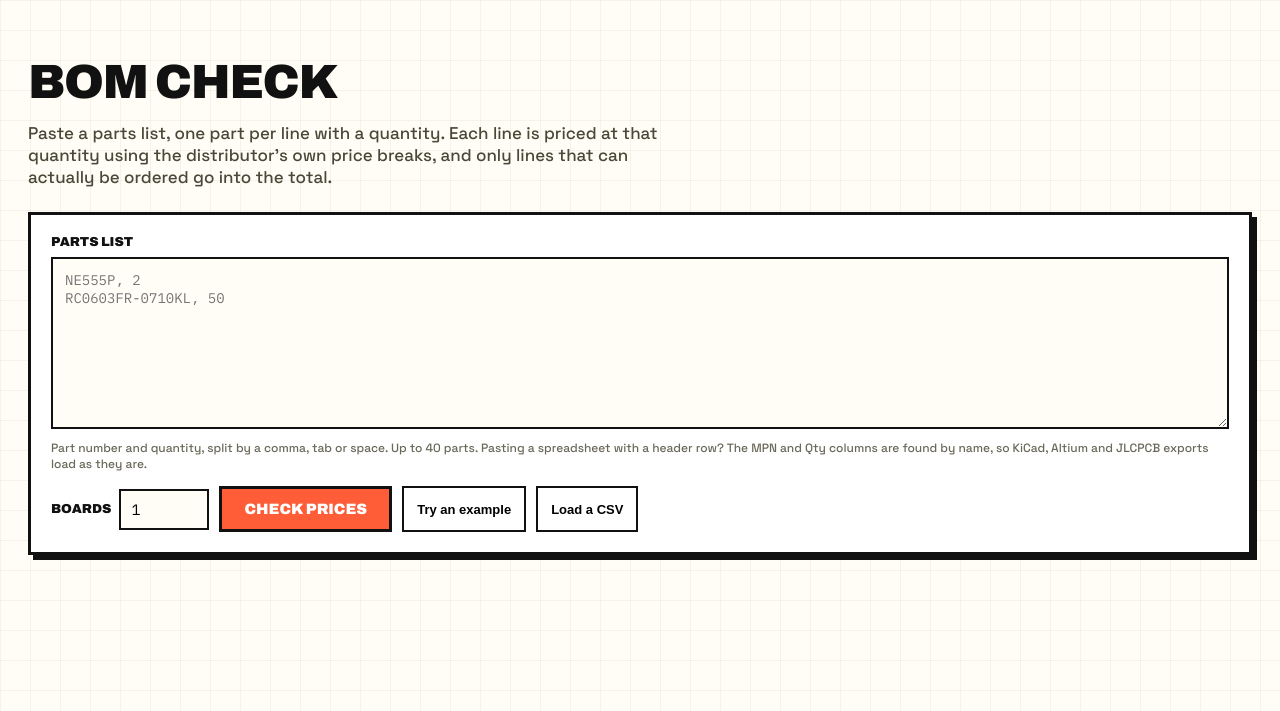
Test: shows unit prices precisely enough to multiply out
Type "TENTH 50" into the text box labelled "PARTS LIST" at x=640, y=343, box [51, 257, 1229, 429]
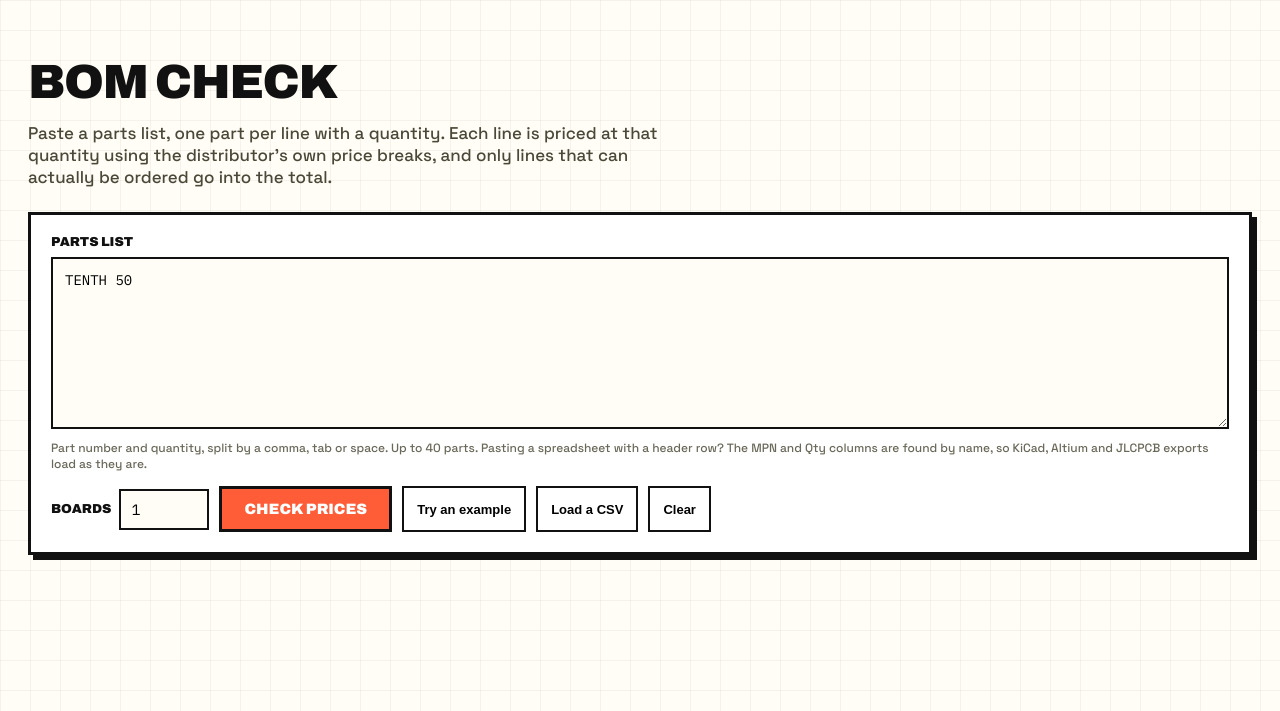
Click the button "CHECK PRICES" at x=306, y=509, box [219, 486, 392, 532]
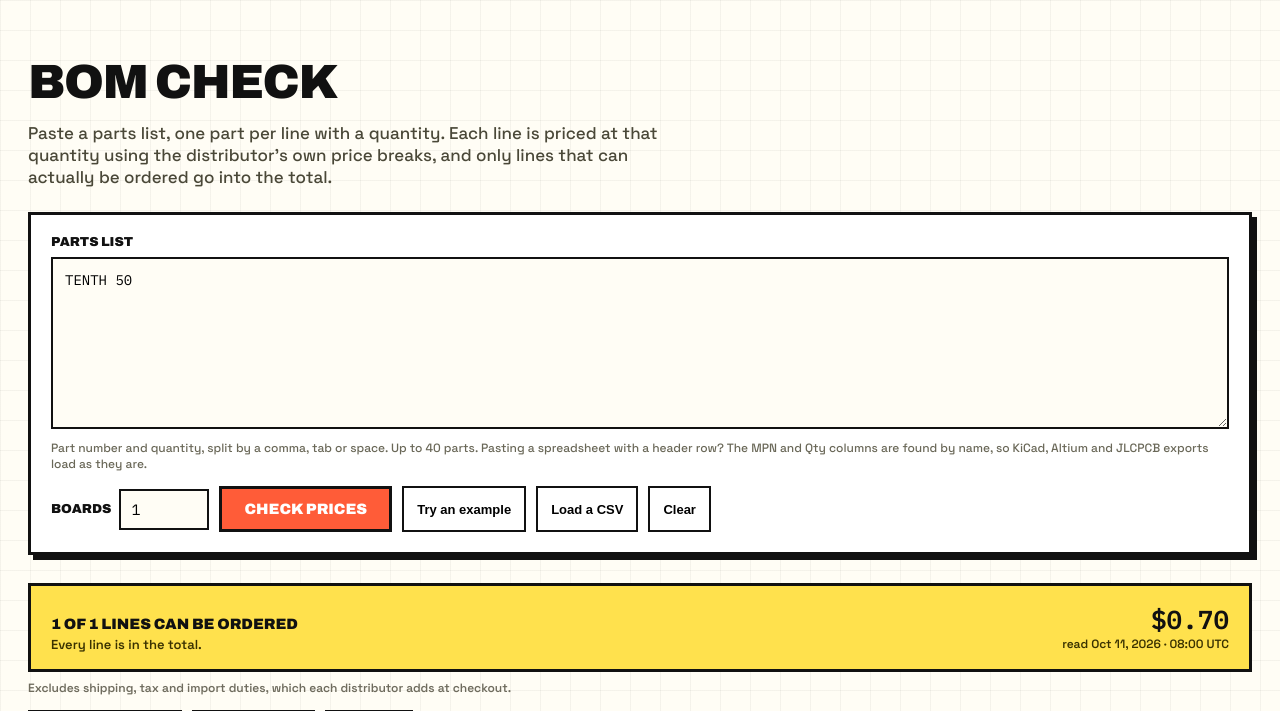
Expected: the text with test id "bom-total" reads "$0.70", [1151, 602, 1229, 636]
